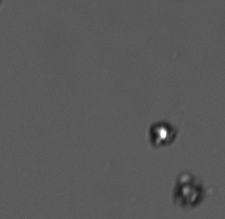Dead Cell: (173, 176, 204, 208)
Living Cell: (147, 119, 176, 146)
